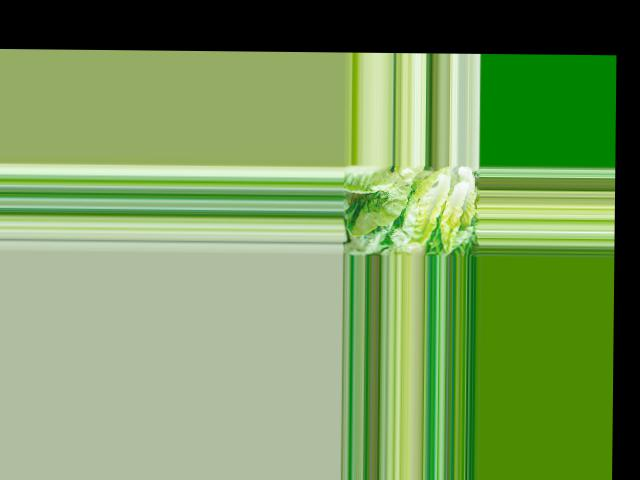lettuce: (389, 164, 476, 250)
